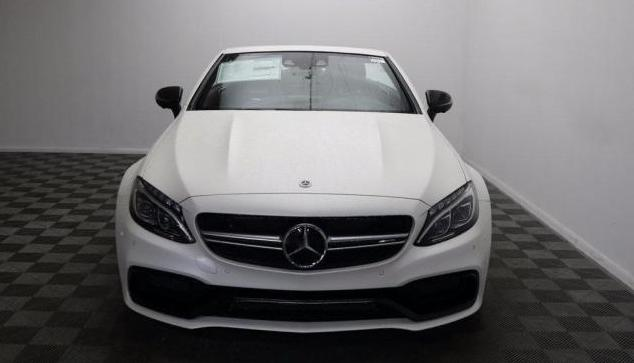C63AMG: (107, 38, 494, 335)
